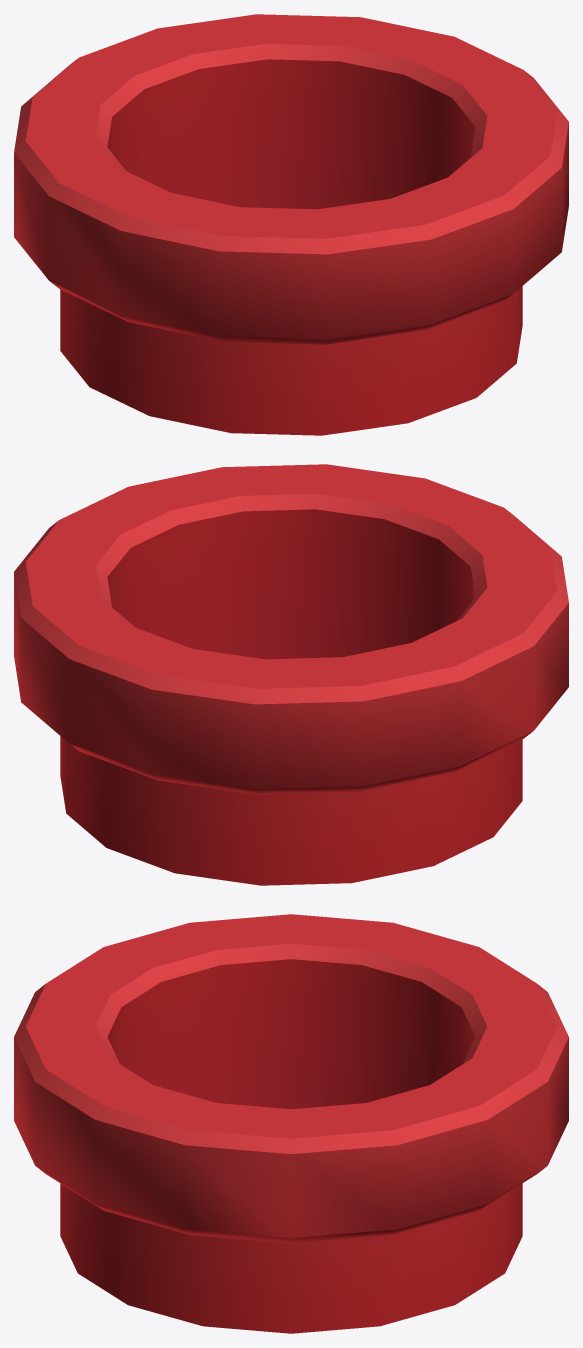
File: kaykit_pipe_end_red.glb
3 renders of one model, top to bottom at view 1: azimuth 30°, elevation 25°; view 2: azimuth 150°, elevation 25°; view 3: azimuth 270°, elevation 25°, orthographic.
Parts seen in each view (by area): view 1: pipe_end_red_visual; view 2: pipe_end_red_visual; view 3: pipe_end_red_visual.
Boxes of the visible parts, x1,y1,x2,y2 form: pipe_end_red_visual: (14, 14, 568, 435); pipe_end_red_visual: (14, 464, 568, 885); pipe_end_red_visual: (14, 914, 568, 1333).
Size of what is drawn, in the model's own units: 2.4 by 1 by 2.4.
1 material, 1 textured.
